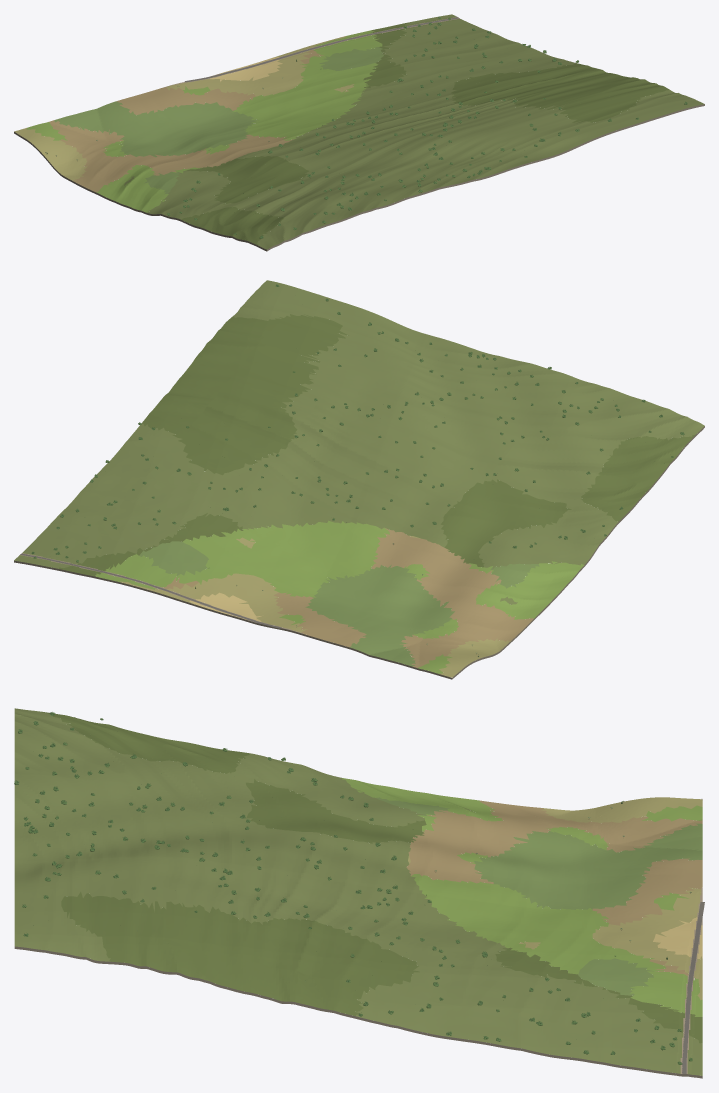
Rendered from parca_+7_-3-yakin.glb.
3 renders of one model, top to bottom at view 1: azimuth 30°, elevation 25°; view 2: azimuth 150°, elevation 25°; view 3: azimuth 270°, elevation 25°, orthographic. The views are drawn at different scales.
Visible parts, largest first — view 1: parca_+7_-3_arazi, parca_+7_-3_bitkiler, parca_+7_-3_yollar; view 2: parca_+7_-3_arazi, parca_+7_-3_bitkiler; view 3: parca_+7_-3_arazi, parca_+7_-3_bitkiler, parca_+7_-3_yollar.
Part boxes in pixels (box(x1,y1,x2,y2)): parca_+7_-3_arazi: box(14, 14, 704, 251); parca_+7_-3_bitkiler: box(45, 16, 687, 239); parca_+7_-3_yollar: box(184, 17, 459, 82); parca_+7_-3_arazi: box(14, 280, 704, 679); parca_+7_-3_bitkiler: box(31, 284, 684, 656); parca_+7_-3_arazi: box(14, 708, 702, 1078); parca_+7_-3_bitkiler: box(14, 712, 692, 1064); parca_+7_-3_yollar: box(682, 902, 704, 1073).
Size of the model in its own units: 1005 by 258 by 1004.
